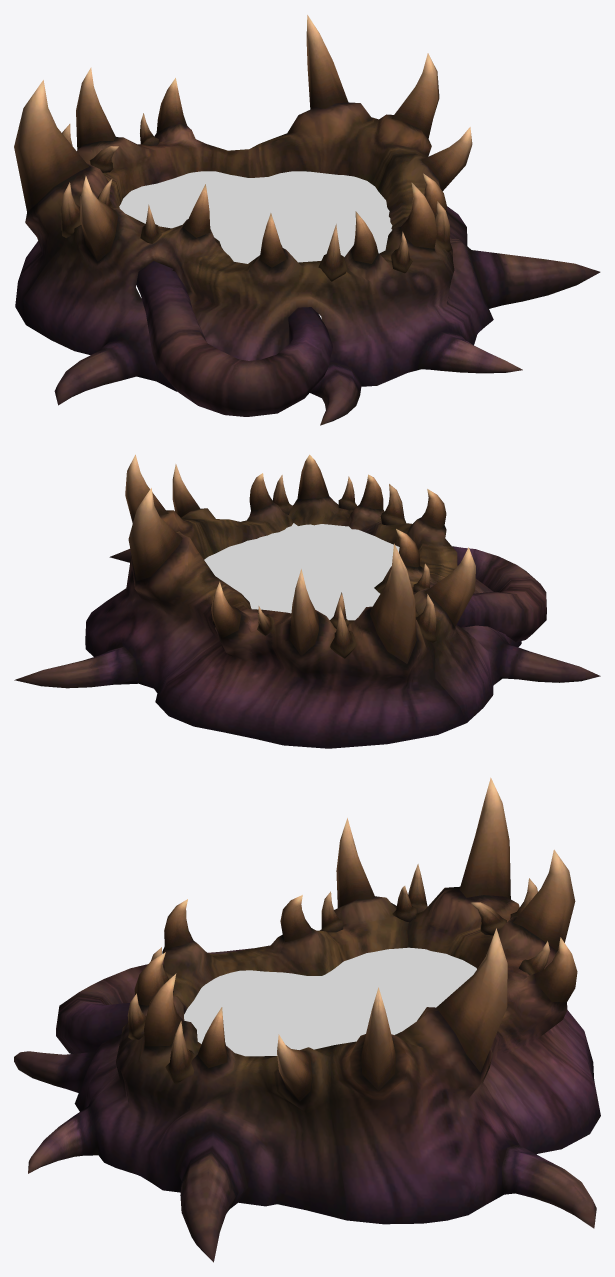
The model's file is SpawningPoolEx1.glb.
The picture shows the model from 3 angles, top to bottom: view 1: azimuth 30°, elevation 25°; view 2: azimuth 150°, elevation 25°; view 3: azimuth 270°, elevation 25°; orthographic projection. The views are drawn at different scales.
Parts seen in each view (by area): view 1: Mesh.001, Mesh; view 2: Mesh.001, Mesh; view 3: Mesh.001, Mesh.
Boxes of the visible parts, bbox=[...] form: Mesh.001: bbox=[14, 15, 600, 425]; Mesh: bbox=[119, 171, 392, 263]; Mesh.001: bbox=[14, 454, 600, 748]; Mesh: bbox=[204, 523, 399, 620]; Mesh.001: bbox=[14, 777, 600, 1262]; Mesh: bbox=[184, 947, 476, 1056].
Size of the model in its own units: 3.79 by 1.44 by 3.09.
Materials: 2 (2 with a texture image).
